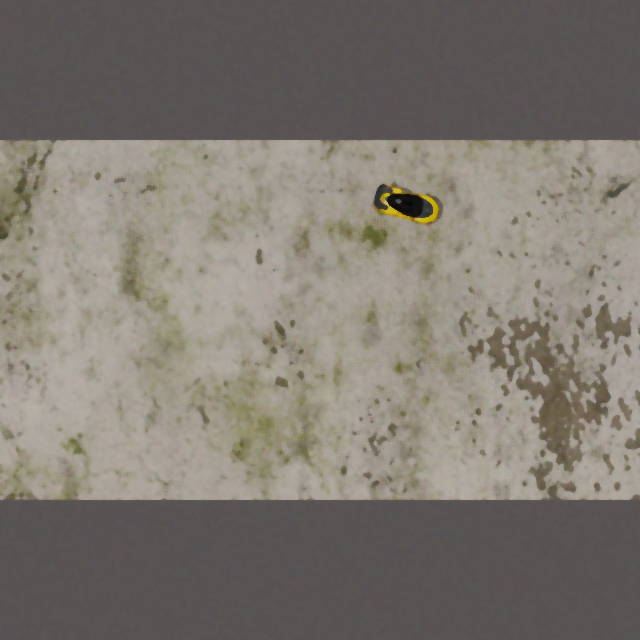car: (370, 179, 445, 228)
